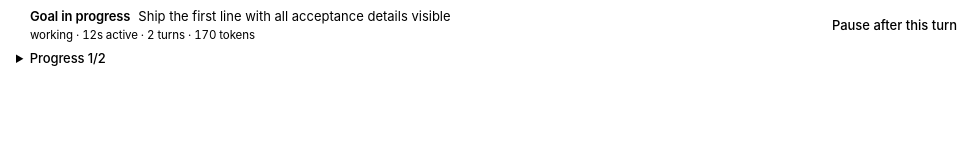
Scenario: GoalRibbon › expands and collapses the complete objective without changing Goal state
Click the button with class "goal-ribbon__text" at x=294, y=16, box x1=138 y1=7 x2=786 y2=25
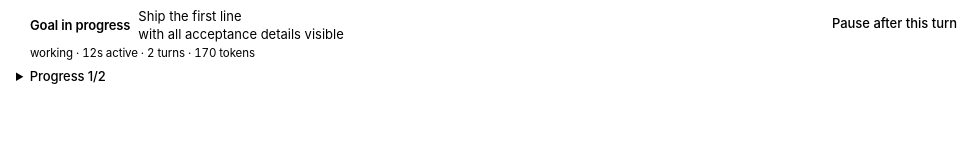
Result: the button with class "goal-ribbon__text" is expanded
Click the button with class "goal-ribbon__text" at x=190, y=16, box x1=138 y1=7 x2=786 y2=43
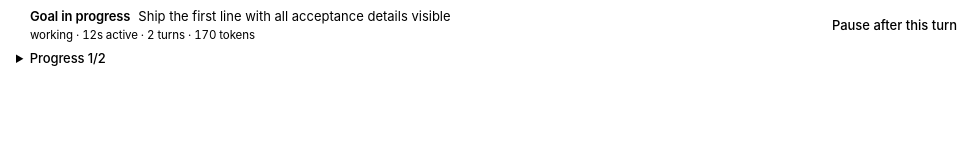
Result: the button with class "goal-ribbon__text" is collapsed at x1=138 y1=7 x2=786 y2=25
